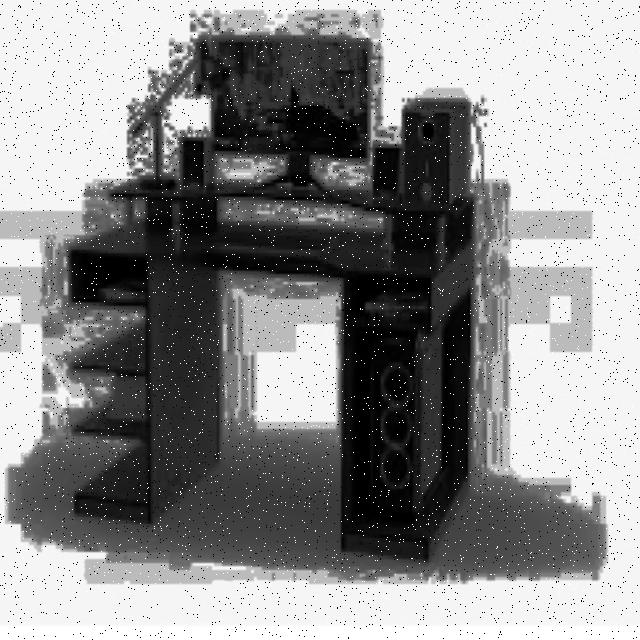table: (66, 176, 474, 559)
